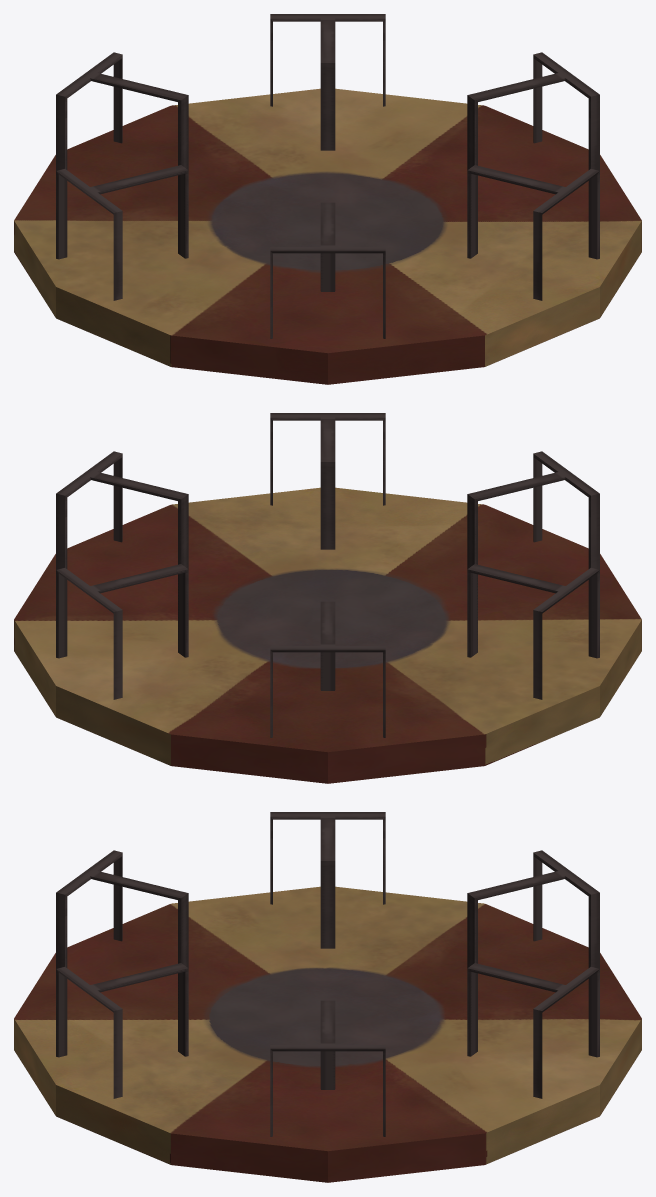
Rendered from Merrygoround01.fbx.
The picture shows the model from 3 angles, top to bottom: view 1: azimuth 30°, elevation 25°; view 2: azimuth 150°, elevation 25°; view 3: azimuth 270°, elevation 25°; orthographic projection.
Visible parts, largest first — view 1: Merrygoround01; view 2: Merrygoround01; view 3: Merrygoround01.
Part boxes in pixels (x1=…): Merrygoround01: x1=14, y1=14, x2=641, y2=384; Merrygoround01: x1=14, y1=413, x2=641, y2=783; Merrygoround01: x1=14, y1=812, x2=641, y2=1182.
Bounding box in the file's own units: 3.41 × 0.7164 × 3.41.
1 material, 1 textured.
